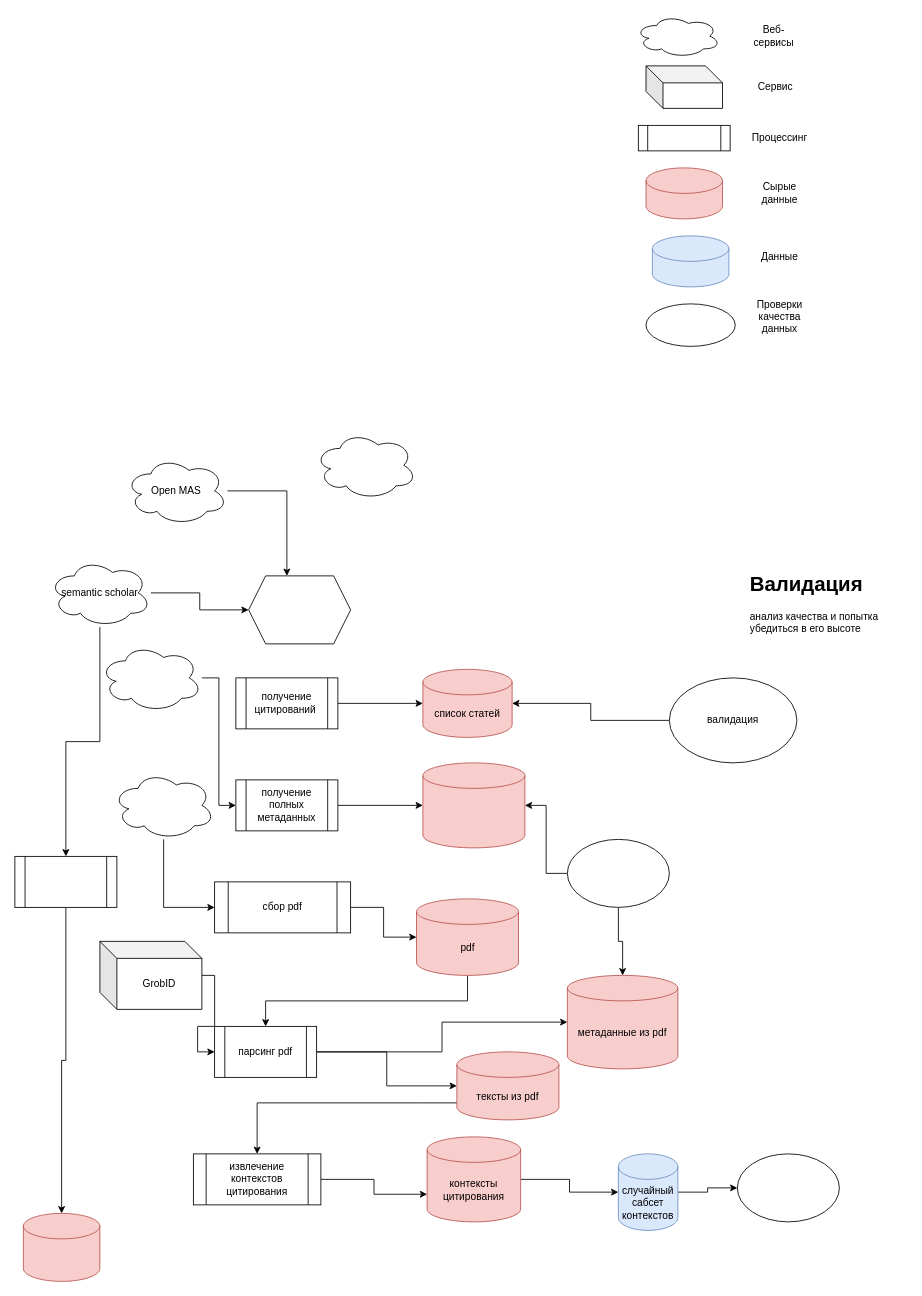
Some shapes in this 922 by 1296 pixel diagram are drawn without their labels. Here are the shapes that lost their labels. From the top down, the centre of each, then its label:
the point at 365,465: Google Scholar
the point at 150,677: cite
the point at 163,805: SciHub
the point at 473,805: полные метаданные статей
the point at 65,881: парсинг semantic scholar
the point at 618,873: валидация между собой
the point at 788,1187: ручная валидация
